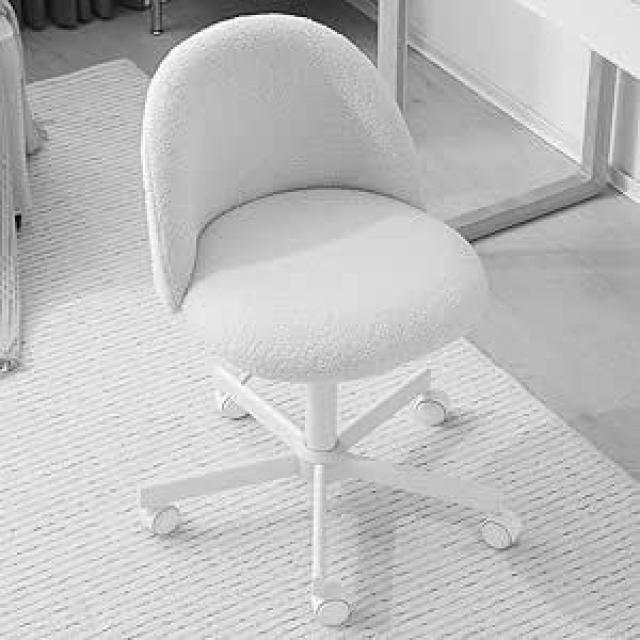chair: (101, 15, 574, 640)
